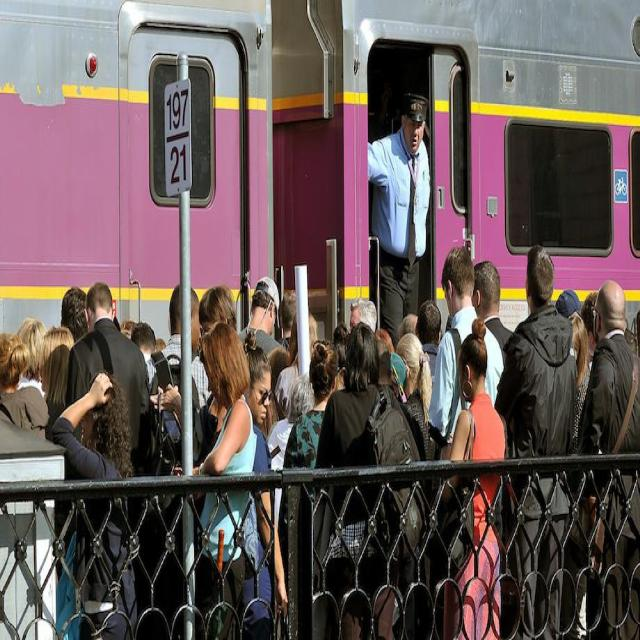body: (308, 314, 430, 639), (492, 242, 580, 640), (175, 319, 258, 640), (50, 367, 139, 640), (438, 317, 506, 640), (579, 280, 640, 640), (64, 278, 154, 472), (368, 89, 433, 354), (427, 245, 506, 461), (277, 334, 341, 600), (240, 329, 289, 640), (146, 282, 213, 473), (121, 318, 186, 497), (143, 280, 214, 421), (328, 296, 396, 406), (265, 282, 321, 413), (553, 286, 593, 456), (393, 332, 434, 464), (5, 308, 53, 420), (0, 330, 49, 437), (55, 283, 122, 357), (471, 257, 516, 366), (396, 298, 445, 391), (236, 274, 287, 361), (37, 323, 76, 434), (580, 285, 606, 359)
